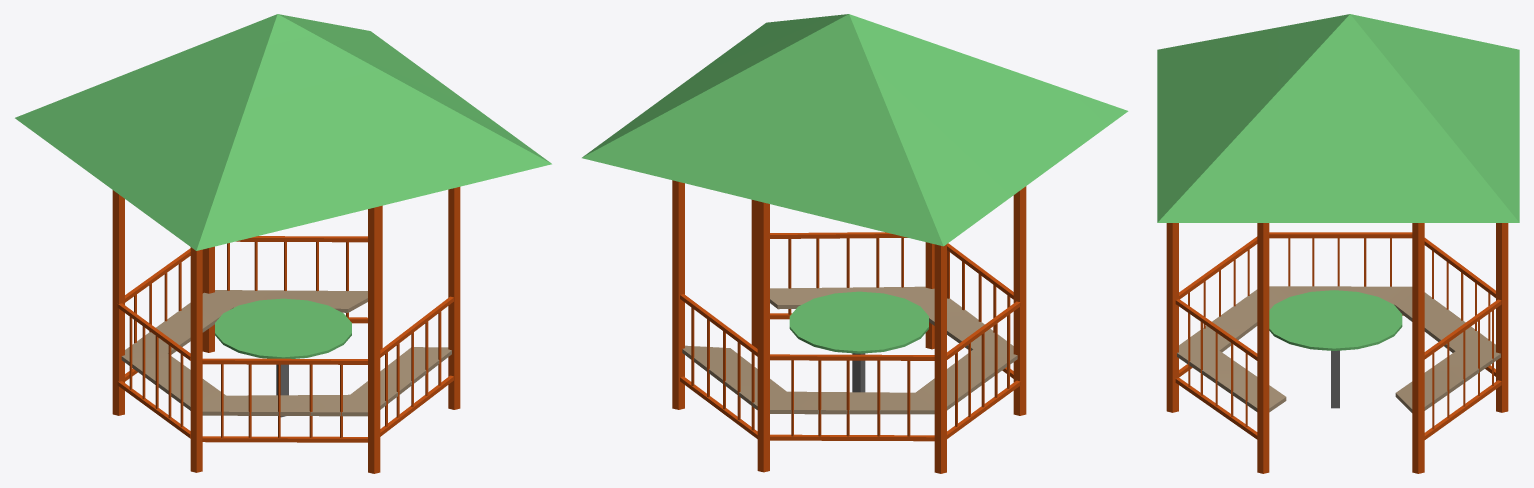
Rendered from SM_Alcove_01.fbx.
3 views of the same model, side by side, from view 1: azimuth 30°, elevation 25°; view 2: azimuth 150°, elevation 25°; view 3: azimuth 270°, elevation 25° (orthographic). The views are drawn at different scales.
Visible parts, largest first — view 1: SM_Alcove_01; view 2: SM_Alcove_01; view 3: SM_Alcove_01.
Part boxes in pixels (left/top/right/bottom): SM_Alcove_01: left=15, top=14, right=551, bottom=473; SM_Alcove_01: left=582, top=14, right=1128, bottom=473; SM_Alcove_01: left=1157, top=14, right=1519, bottom=473.
Bounding box in the file's own units: 277 × 293 × 245.
1 material, 1 textured.
